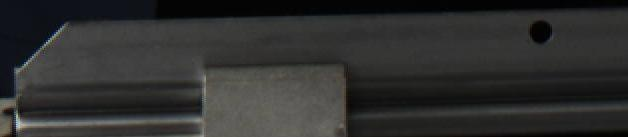cut: (11, 13, 188, 137)
holes: (526, 18, 554, 44)
